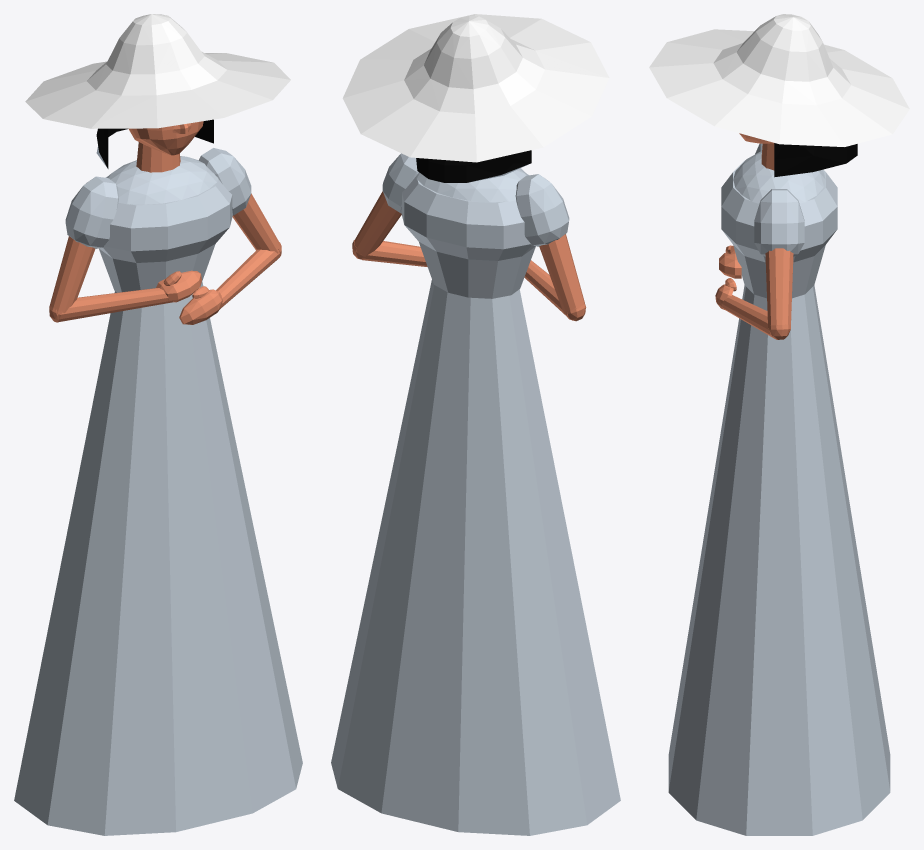
File: Shelly.FBX
3 views of the same model, side by side, from view 1: azimuth 30°, elevation 25°; view 2: azimuth 150°, elevation 25°; view 3: azimuth 270°, elevation 25° (orthographic).
Parts seen in each view (by area): view 1: VIFS020, VIFS012, VIFS021, VIFS018, VIFS017, VIFS019, VIFS003, VIFS002, VIFS016, VIFS001, VIFS005, VIFS006 (+4 smaller); view 2: VIFS020, VIFS012, VIFS021, VIFS019, VIFS017, VIFS013, VIFS018, VIFS002, VIFS005, VIFS016, VIFS006, VIFS003; view 3: VIFS020, VIFS012, VIFS021, VIFS016, VIFS018, VIFS013, VIFS005, VIFS019, VIFS006.
Part boxes in pixels (x1=…): VIFS020: x1=14, y1=282, x2=302, y2=835; VIFS012: x1=25, y1=14, x2=290, y2=128; VIFS021: x1=99, y1=176, x2=232, y2=262; VIFS018: x1=106, y1=156, x2=218, y2=204; VIFS017: x1=65, y1=176, x2=118, y2=248; VIFS019: x1=99, y1=244, x2=215, y2=292; VIFS003: x1=56, y1=288, x2=172, y2=322; VIFS002: x1=50, y1=236, x2=95, y2=312; VIFS016: x1=199, y1=148, x2=251, y2=215; VIFS001: x1=128, y1=121, x2=203, y2=155; VIFS005: x1=232, y1=193, x2=281, y2=253; VIFS006: x1=216, y1=249, x2=280, y2=308; VIFS020: x1=331, y1=280, x2=620, y2=835; VIFS012: x1=342, y1=14, x2=609, y2=162; VIFS021: x1=401, y1=174, x2=535, y2=260; VIFS019: x1=419, y1=242, x2=535, y2=298; VIFS017: x1=515, y1=174, x2=569, y2=246; VIFS013: x1=416, y1=150, x2=531, y2=182; VIFS018: x1=416, y1=168, x2=527, y2=202; VIFS002: x1=539, y1=234, x2=584, y2=311; VIFS005: x1=354, y1=191, x2=401, y2=257; VIFS016: x1=382, y1=153, x2=418, y2=213; VIFS006: x1=362, y1=241, x2=427, y2=266; VIFS003: x1=524, y1=260, x2=586, y2=320; VIFS020: x1=668, y1=285, x2=890, y2=835; VIFS012: x1=649, y1=14, x2=909, y2=146; VIFS021: x1=721, y1=160, x2=837, y2=262; VIFS016: x1=754, y1=189, x2=804, y2=256; VIFS018: x1=733, y1=151, x2=825, y2=203; VIFS013: x1=774, y1=143, x2=857, y2=177; VIFS005: x1=765, y1=248, x2=793, y2=328; VIFS019: x1=733, y1=245, x2=825, y2=298; VIFS006: x1=721, y1=295, x2=774, y2=338.
Bounding box in the file's own units: 1.68 × 4.79 × 1.5.
